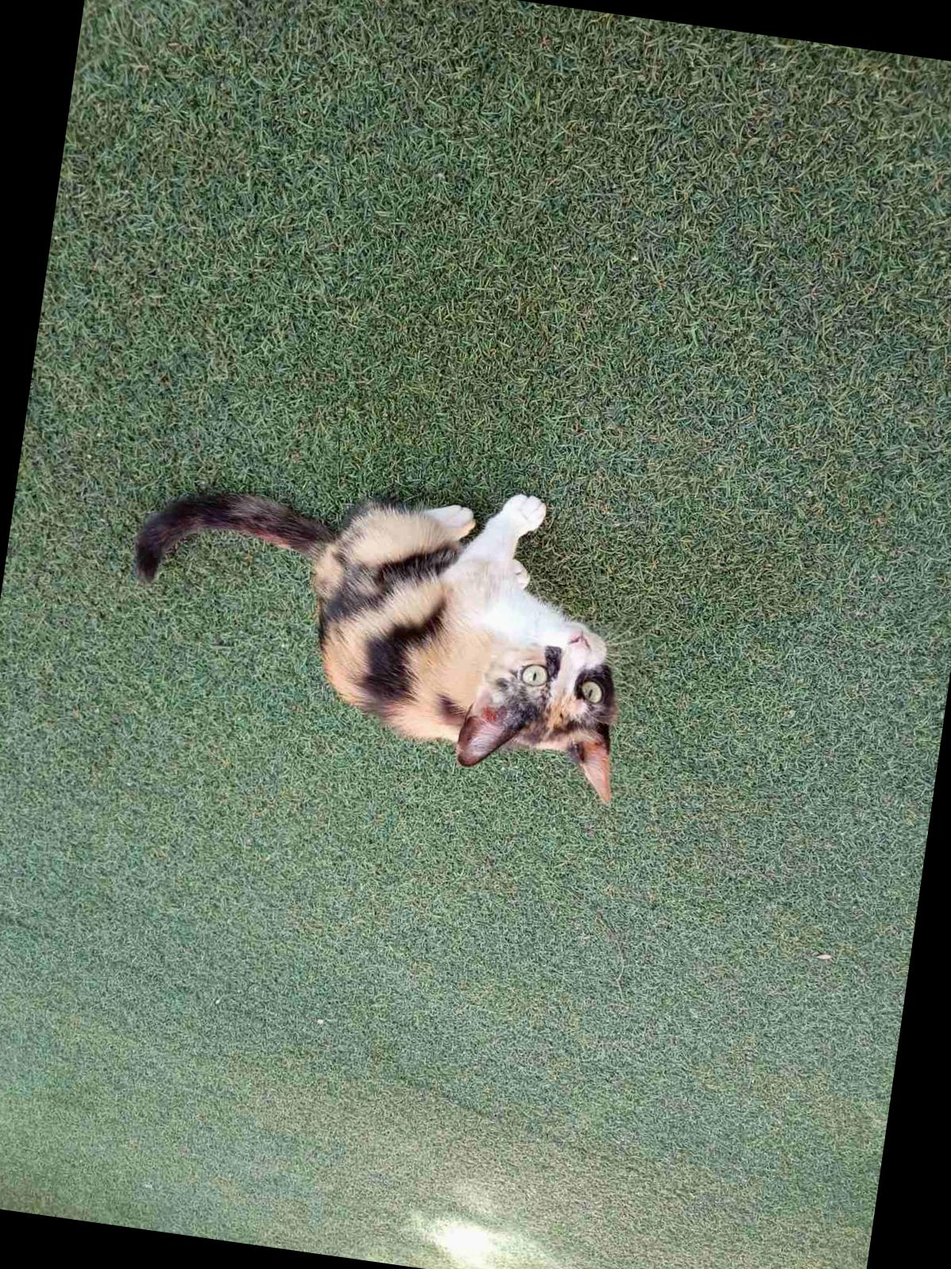macka: (104, 443, 657, 809)
